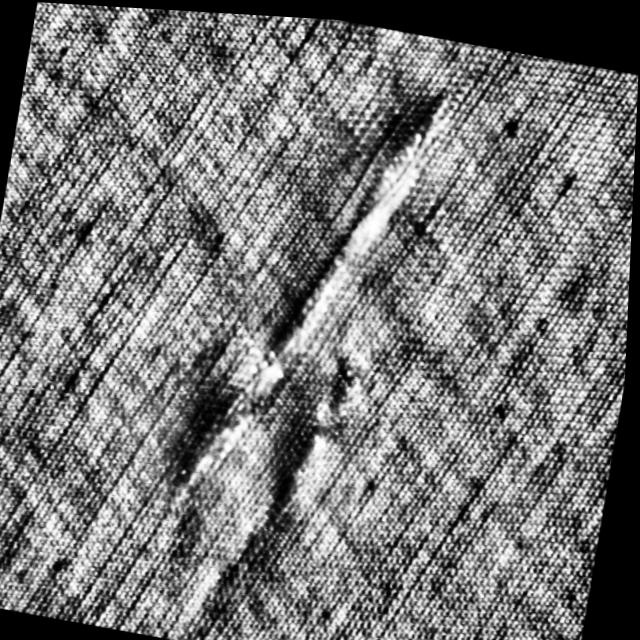Stitch: (141, 44, 486, 541), (257, 324, 392, 530)
